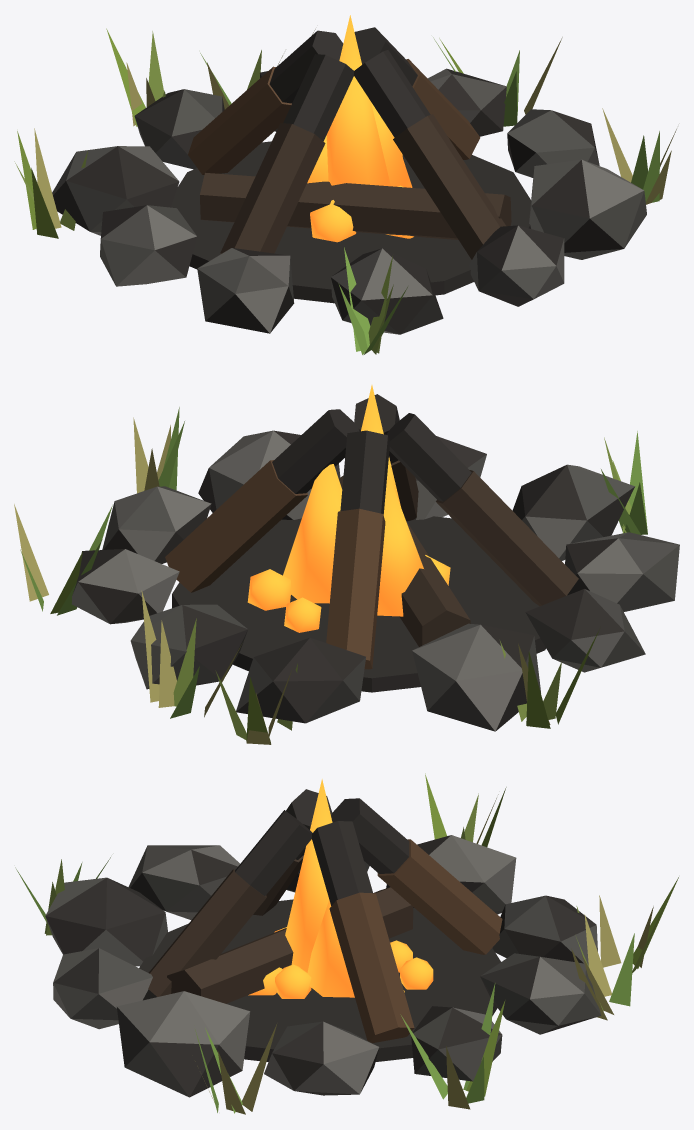
Rendered from campfire.glb.
3 renders of one model, top to bottom at view 1: azimuth 30°, elevation 25°; view 2: azimuth 150°, elevation 25°; view 3: azimuth 270°, elevation 25°, orthographic. The views are drawn at different scales.
Parts seen in each view (by area): view 1: fire_pit, embers; view 2: fire_pit, embers; view 3: fire_pit, embers.
Part boxes in pixels (x1=…): fire_pit: x1=14, y1=27, x2=676, y2=354; embers: x1=307, y1=15, x2=413, y2=242; fire_pit: x1=14, y1=394, x2=679, y2=744; embers: x1=247, y1=385, x2=450, y2=632; fire_pit: x1=15, y1=773, x2=678, y2=1114; embers: x1=248, y1=779, x2=433, y2=998.
Bounding box in the file's own units: 1.27 × 0.5224 × 1.35.
